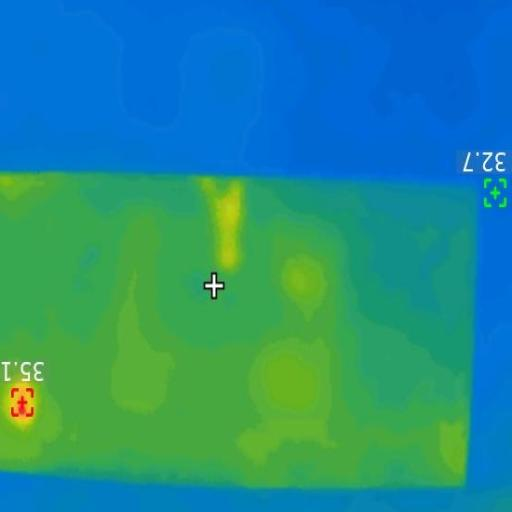hotspot: (18, 402, 27, 418)
